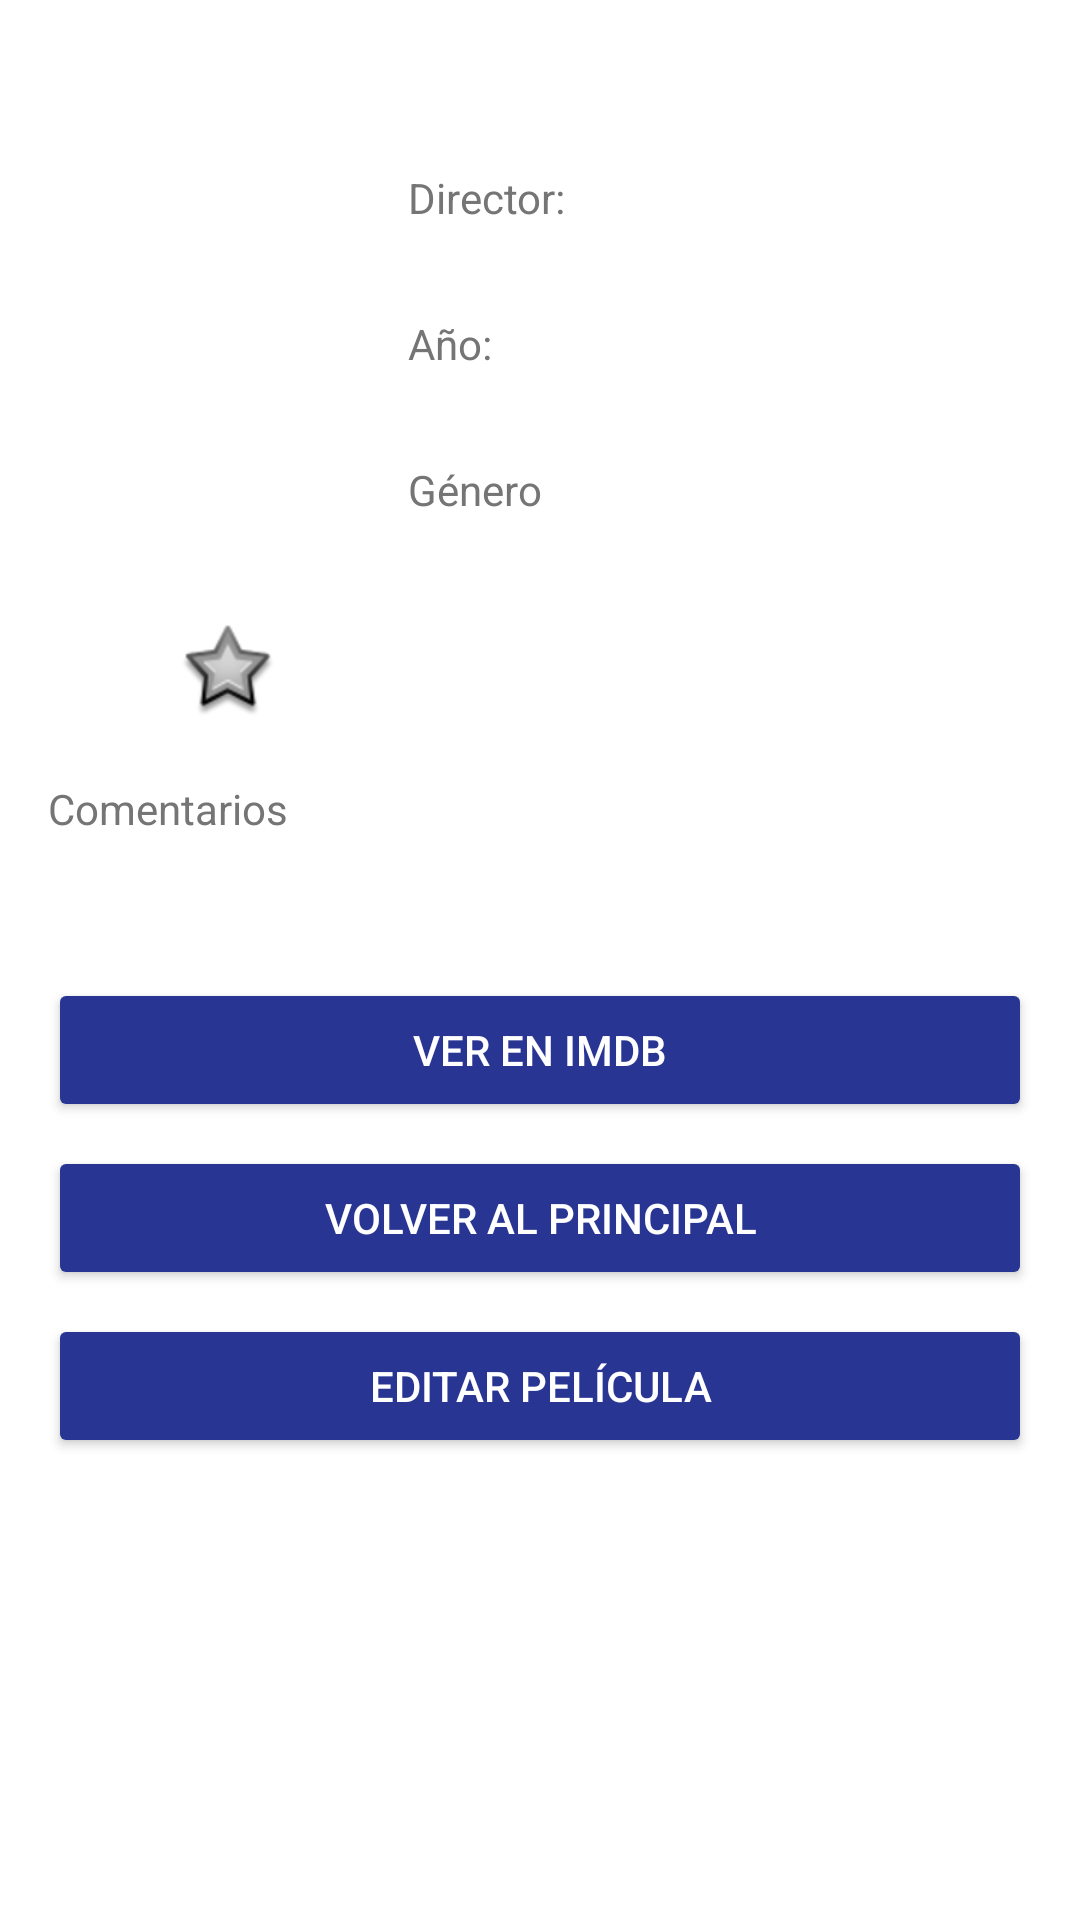

Icons on this 1080w x 1920h Android screen, each with its box as (x1, y1, x2, y2):
Favorito: (185, 625, 271, 712)
